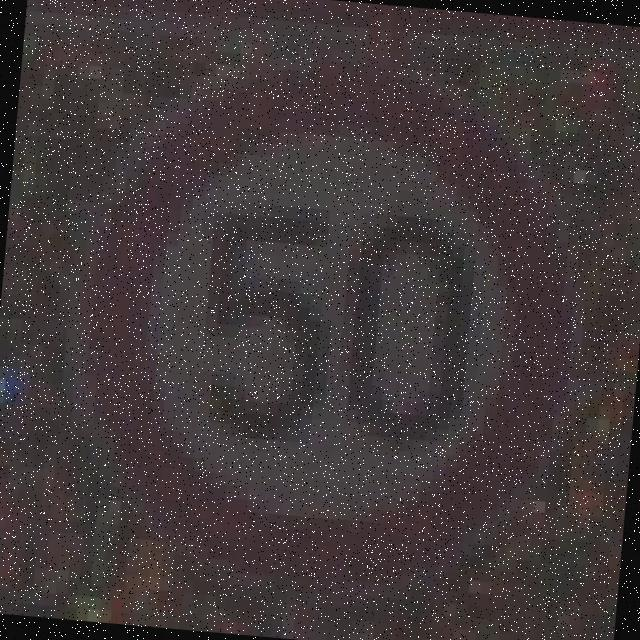Ograniczenie predkosci do 50: (67, 52, 592, 600)
